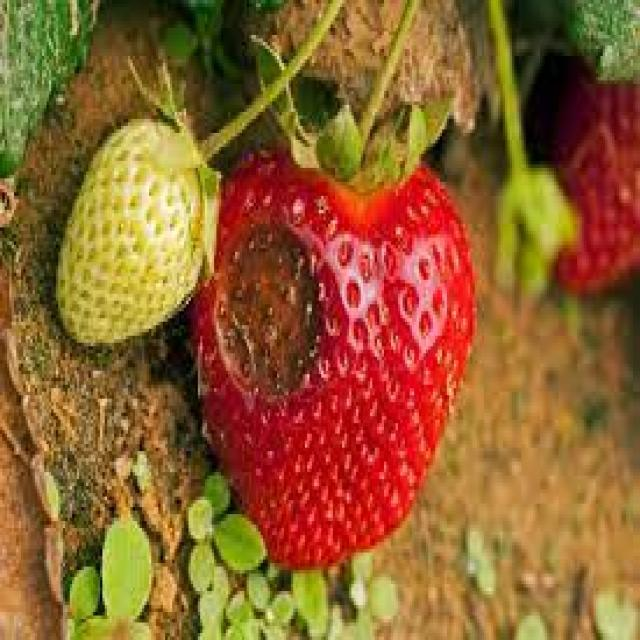Mancha negra Antracnosis: (204, 145, 466, 554)
